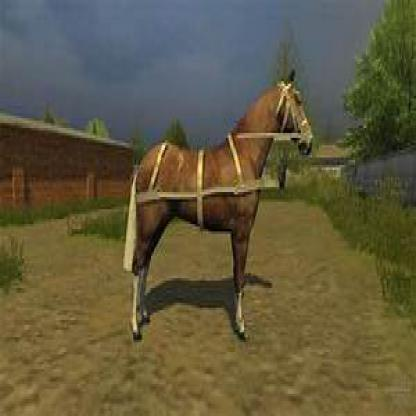horse: (123, 67, 315, 344)
